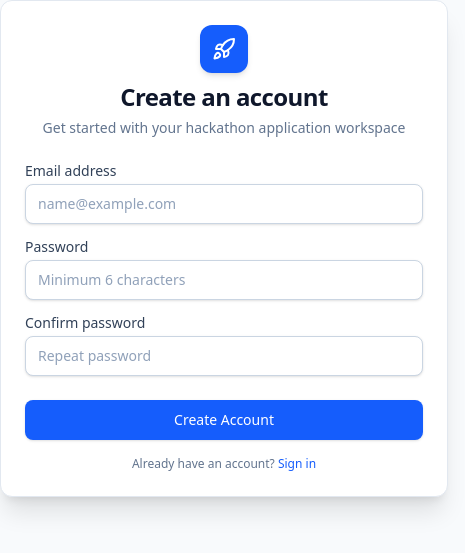
Test: SignupForm Component › displays validation error when passwords do not match
Type "user@example.com" into the field labelled "Email address". click: x=224, y=204
box: 25,184 -> 423,224
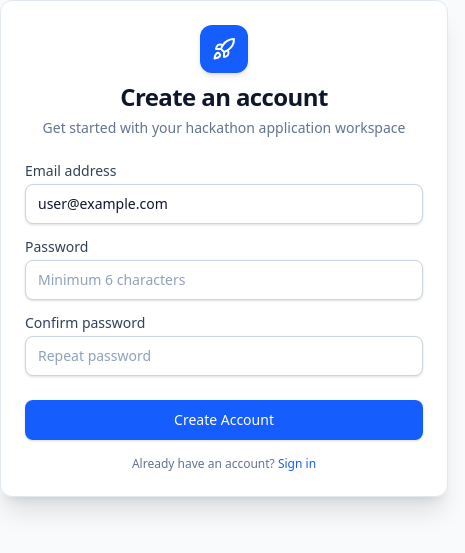
Type "password123" into the password field labelled "Password". click: x=224, y=280
box: 25,260 -> 423,300
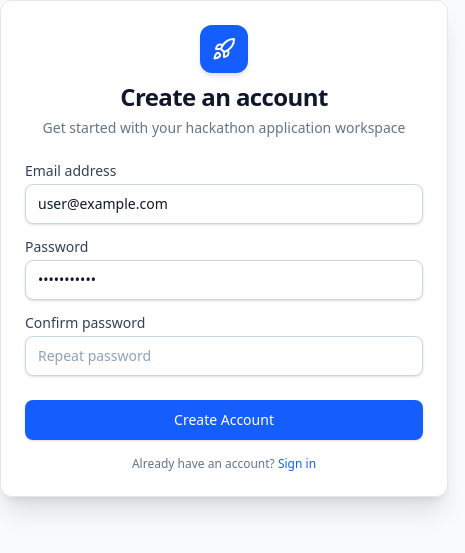
Type "mismatch123" into the password field labelled "Confirm password". click: x=224, y=356
box: 25,336 -> 423,376
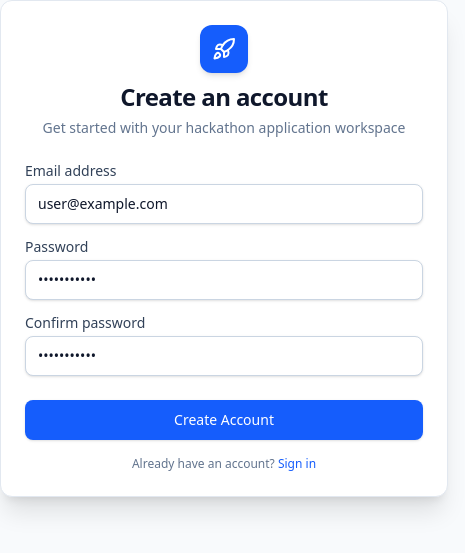
Click the button "Create Account". click: x=224, y=420
box: 25,400 -> 423,440
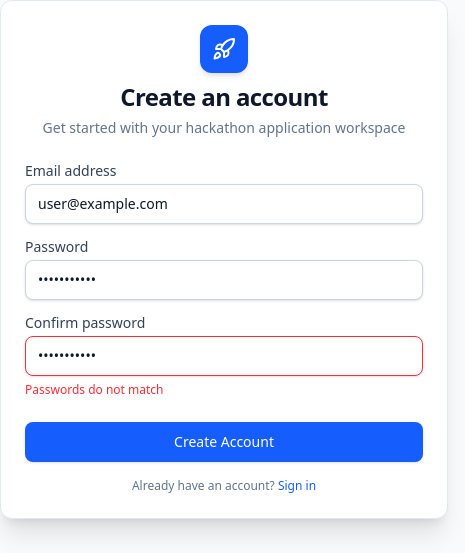
Now the text "Passwords do not match" is shown, box 25,381 -> 164,398
